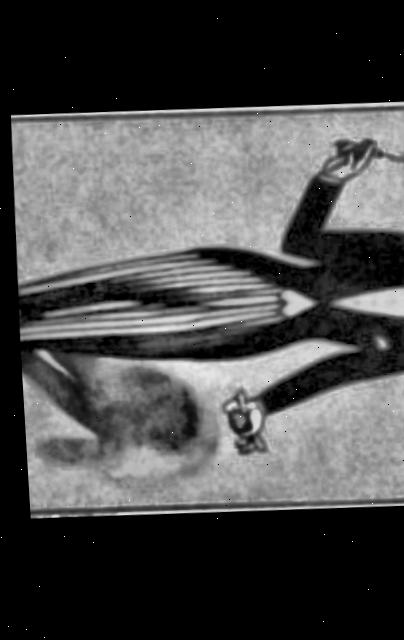El Catrin: (6, 105, 404, 520)
